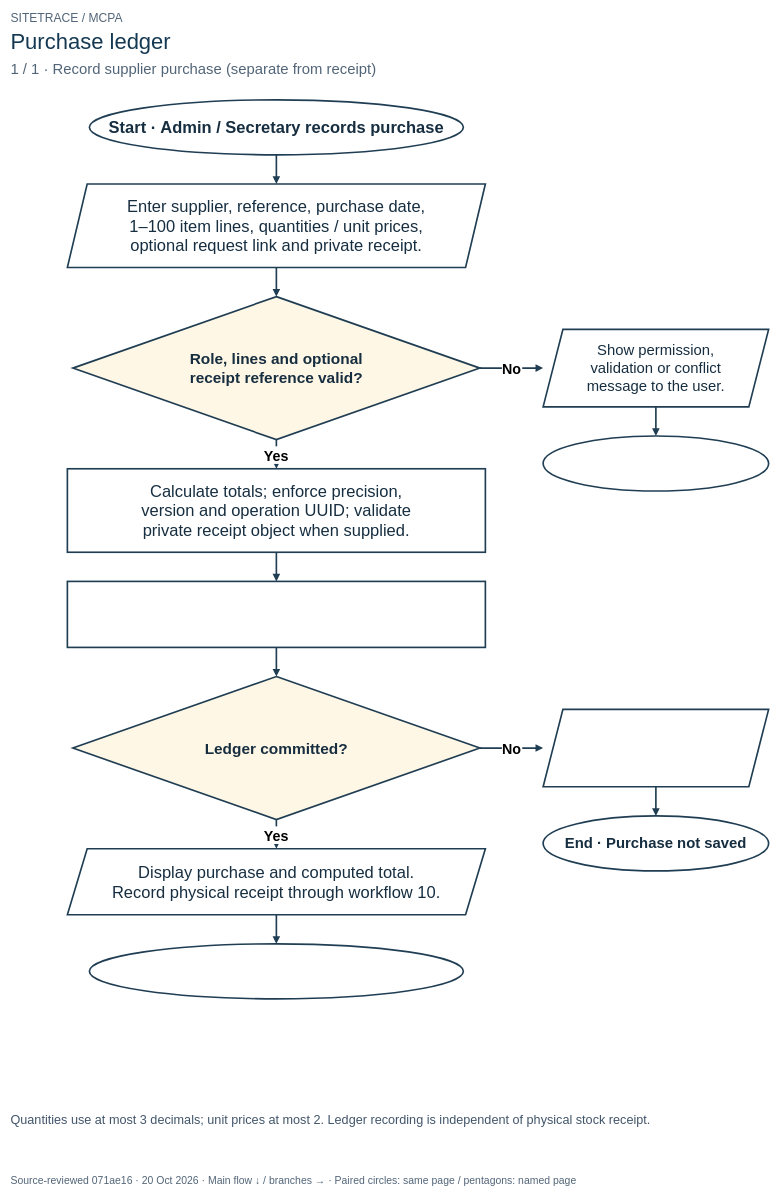
This 779x1198 diagram has some shape labels left out. The shapes that lost their labels are listed below. From the top down, each one's centre as x and y in pixels, then its label:
At point 655,463: "End · No change saved".
At point 276,614: "Save purchase ledger and line history atomically. Do not change stock levels.".
At point 655,747: "Show validation / conflict error; reload ledger before retry.".
At point 276,971: "End · Purchase record saved".
